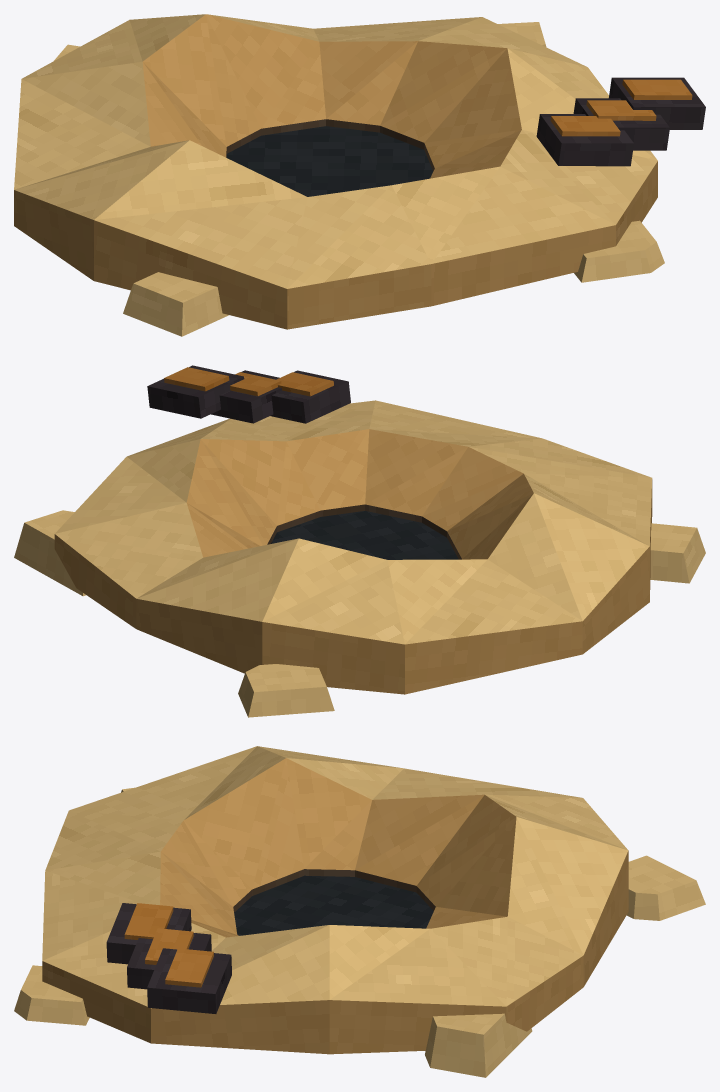
File: colossal_worm_lair_v2.glb
The picture shows the model from 3 angles, top to bottom: view 1: azimuth 30°, elevation 25°; view 2: azimuth 150°, elevation 25°; view 3: azimuth 270°, elevation 25°; orthographic projection. The views are drawn at different scales.
Visible parts, largest first — view 1: Model; view 2: Model; view 3: Model.
Boxes of the visible parts, bbox=[...] form: Model: bbox=[14, 14, 705, 336]; Model: bbox=[14, 365, 705, 717]; Model: bbox=[14, 746, 705, 1077].
Size of the model in its own units: 1.31 by 0.2414 by 1.4.
1 material, 1 textured.
